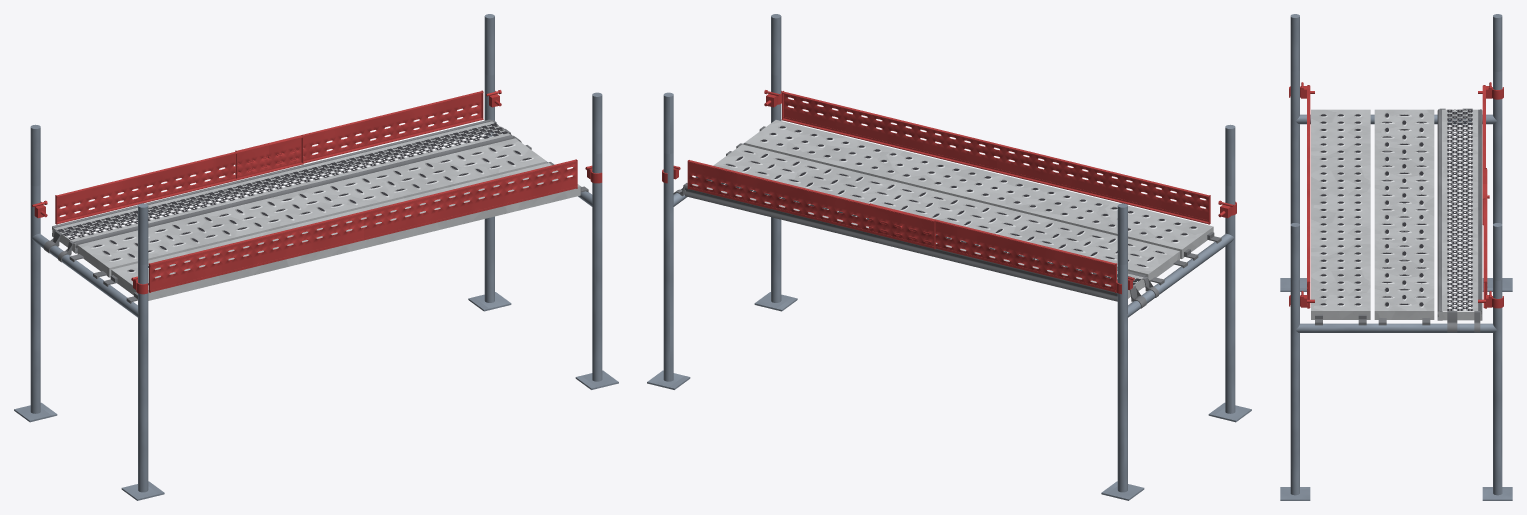
The model's file is scaffold-planks-and-toe-guards.glb.
3 views of the same model, side by side, from view 1: azimuth 30°, elevation 25°; view 2: azimuth 150°, elevation 25°; view 3: azimuth 270°, elevation 25° (orthographic). The views are drawn at different scales.
Visible parts, largest first — view 1: WalkwayPlanks, Ledgers(context), TelescopicToeGuard, FixedToeGuard, AllstagePlank, DrainHoles, SideRibs, Perforations, PlankHooks; view 2: WalkwayPlanks, Ledgers(context), FixedToeGuard, TelescopicToeGuard, Perforations, SideRibs, DrainHoles, PlankHooks; view 3: WalkwayPlanks, Ledgers(context), DrainHoles, AllstagePlank, Perforations, SideRibs, TelescopicToeGuard, FixedToeGuard, PlankHooks.
Boxes of the visible parts, x1,y1,x2,y2 form: WalkwayPlanks: (77, 138, 580, 300); Ledgers(context): (14, 14, 618, 500); TelescopicToeGuard: (32, 90, 501, 224); FixedToeGuard: (131, 159, 602, 294); AllstagePlank: (52, 121, 510, 252); DrainHoles: (57, 123, 531, 285); SideRibs: (52, 119, 513, 253); Perforations: (90, 144, 533, 286); PlankHooks: (43, 120, 588, 303); WalkwayPlanks: (713, 120, 1213, 281); Ledgers(context): (647, 14, 1251, 500); FixedToeGuard: (764, 90, 1236, 224); TelescopicToeGuard: (662, 160, 1134, 294); Perforations: (723, 125, 1197, 267); SideRibs: (685, 180, 1146, 301); DrainHoles: (697, 126, 1196, 285); PlankHooks: (673, 126, 1221, 308); WalkwayPlanks: (1311, 109, 1434, 319); Ledgers(context): (1280, 14, 1512, 500); DrainHoles: (1320, 109, 1472, 310); AllstagePlank: (1438, 109, 1481, 320); Perforations: (1319, 112, 1429, 307); SideRibs: (1437, 109, 1482, 320); TelescopicToeGuard: (1478, 82, 1503, 308); FixedToeGuard: (1289, 82, 1314, 308); PlankHooks: (1315, 108, 1480, 332).
Bounding box in the file's own units: 2.64 × 1.5 × 1.17.
Materials: 6 (6 with a texture image).
